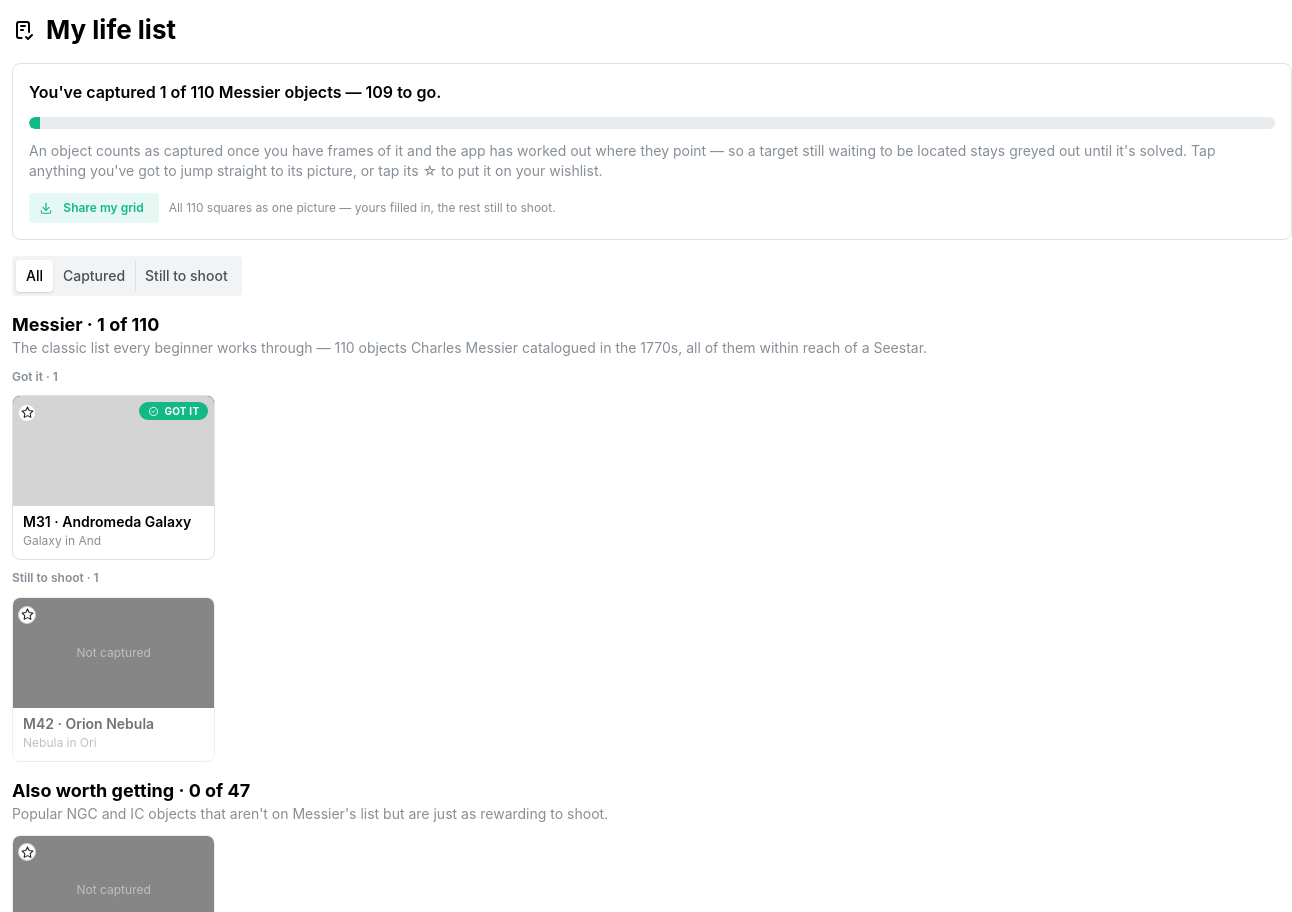
Test case: LifeListView › filters down to just what's left to shoot
Expected: the text "M31 · Andromeda Galaxy" is shown, [23,512,204,533]
Click the text "Still to shoot".
click(186, 276)  # box [145,268,228,284]
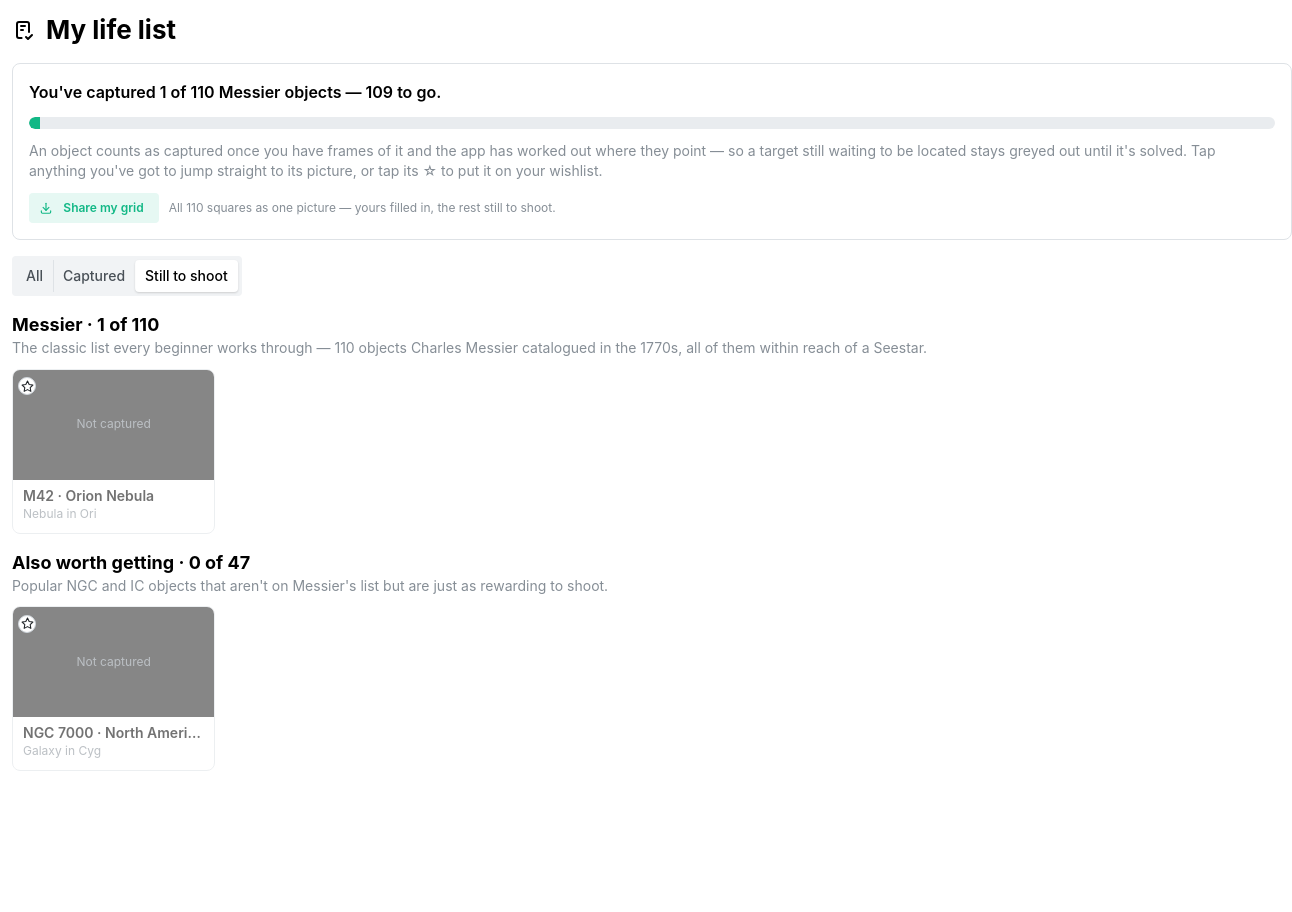
Expected: the text "M42 · Orion Nebula" is shown, [23,487,154,504]
Expected: the link "M31 · Andromeda Galaxy" is gone
